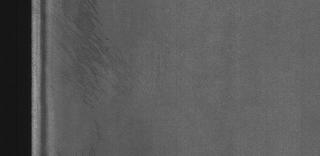water spot: (52, 1, 128, 107)
